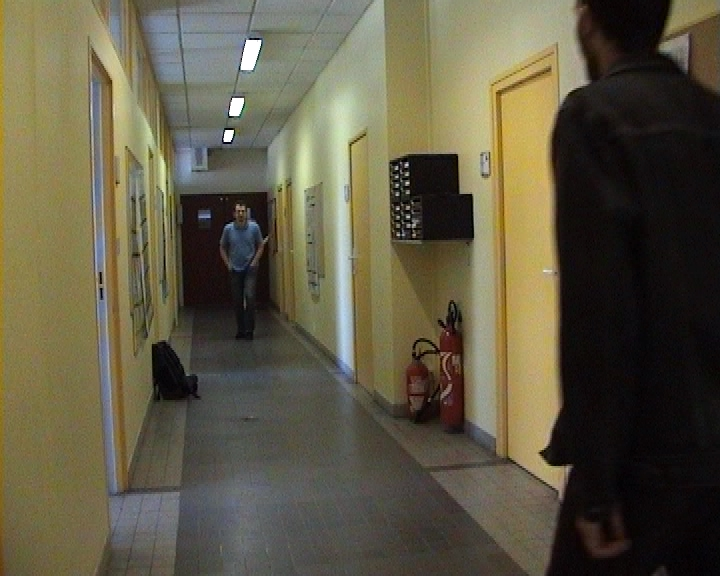leave bag unattended: (136, 319, 217, 418)
